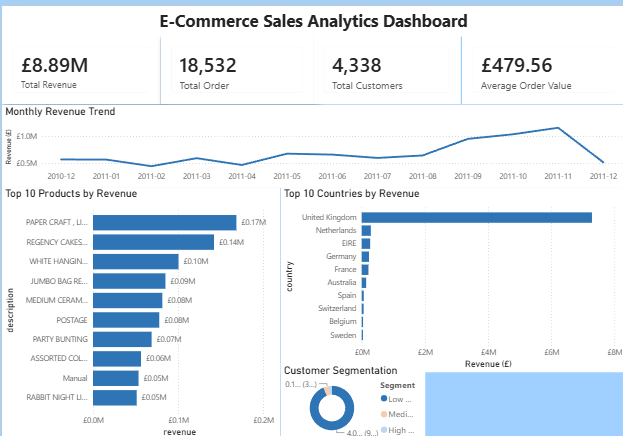

The page's visual inventory and layout, read from the dashboard file:
{"tool":"powerbi","page":{"name":"Page 1","canvas":[1280,720],"ordinal":0},"visuals":[{"type":"cardVisual","fields":{"Data":["Sum(public online_retail.revenue)"]},"box":[0,48.8,253.8,108.8],"z":0},{"type":"cardVisual","fields":{"Data":["Customer Segments.Total Orders"]},"box":[253.8,48.8,245,108.8],"z":1000},{"type":"cardVisual","fields":{"Data":["public online_retail.Average Order Value"]},"box":[735,48.8,261.2,108.8],"z":2000},{"type":"lineChart","title":"Monthly Revenue Trend","fields":{"Y":["Sum(public online_retail.revenue)"],"Category":["public online_retail.Year Month"]},"box":[0,157.5,996.2,132.5],"z":3000},{"type":"clusteredBarChart","title":"Top 10 Products by Revenue","fields":{"Category":["public online_retail.description"],"Y":["Sum(public online_retail.revenue)"]},"box":[0,290,445,405],"z":4000},{"type":"clusteredBarChart","title":"Top 10 Countries by Revenue","fields":{"Category":["public online_retail.country"],"Y":["Sum(public online_retail.revenue)"]},"box":[445,290,551.2,296.2],"z":5000},{"type":"donutChart","title":"Customer Segmentation","fields":{"Category":["Customer Segments.Segment"],"Y":["CountNonNull(Customer Segments.customer_id)"]},"box":[445,571.2,231.2,123.8],"z":6000},{"type":"textbox","box":[0,0,996.7,48.9],"z":7000},{"type":"cardVisual","fields":{"Data":["Customer Segments.Total Customers Display"]},"box":[498.8,48.8,236.2,108.8],"z":8000}]}

Visuals, with their boxes on the page's 1280x720 design canvas (x1, y1, x2, y2). These are canvas units, not pixel positions in the 623x436 screenshot, which may show the page scaled, cropped or inside an application window:
cardVisual - Sum(public online_retail.revenue): <box>0,49,254,158</box>
cardVisual - Customer Segments.Total Orders: <box>254,49,499,158</box>
cardVisual - public online_retail.Average Order Value: <box>735,49,996,158</box>
"Monthly Revenue Trend" lineChart: <box>0,158,996,290</box>
"Top 10 Products by Revenue" clusteredBarChart: <box>0,290,445,695</box>
"Top 10 Countries by Revenue" clusteredBarChart: <box>445,290,996,586</box>
"Customer Segmentation" donutChart: <box>445,571,676,695</box>
textbox: <box>0,0,997,49</box>
cardVisual - Customer Segments.Total Customers Display: <box>499,49,735,158</box>
